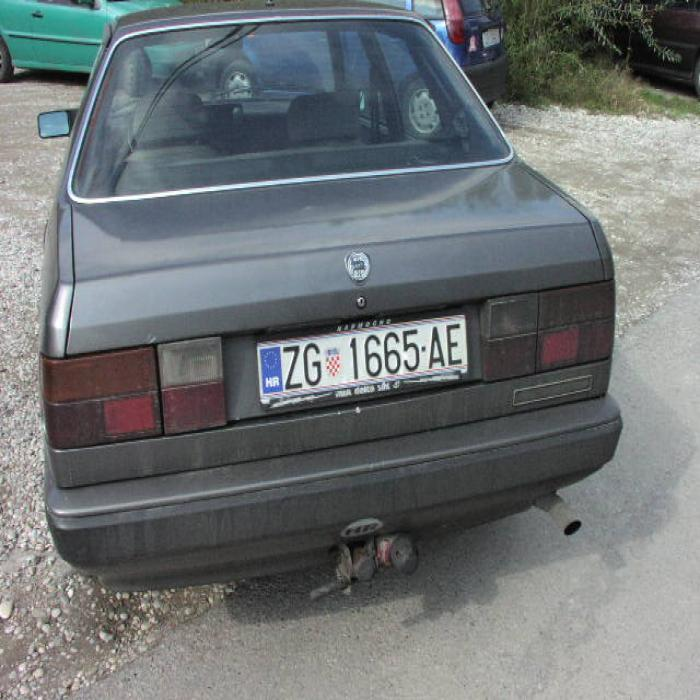number_plate: (262, 316, 462, 400)
